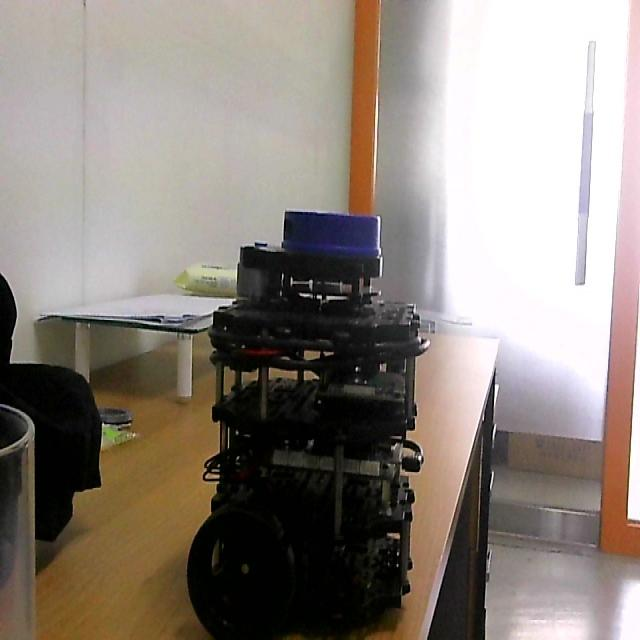turtle: (184, 206, 432, 640)
